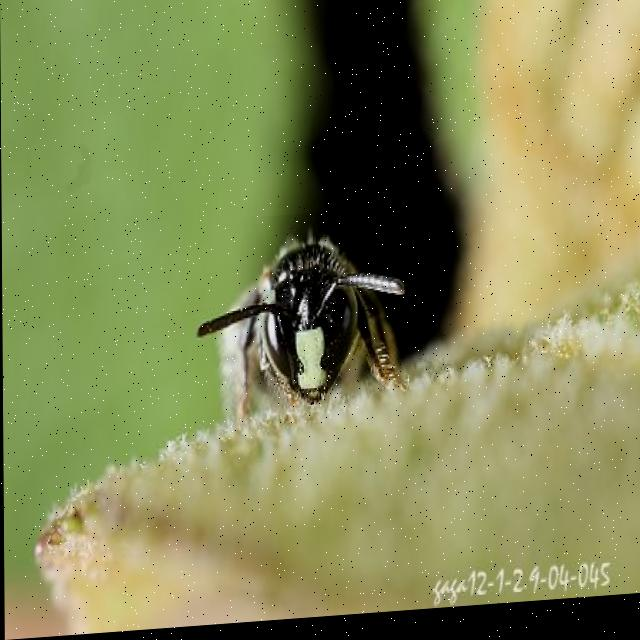Braunsapis: (181, 212, 420, 446)
